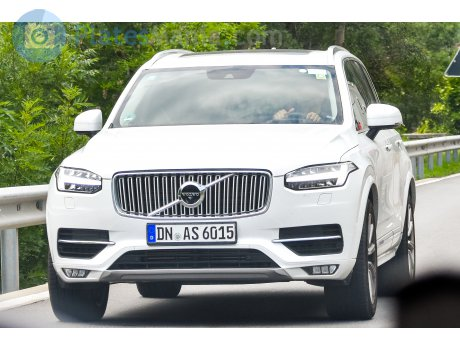License Plates: (160, 228, 230, 243)
